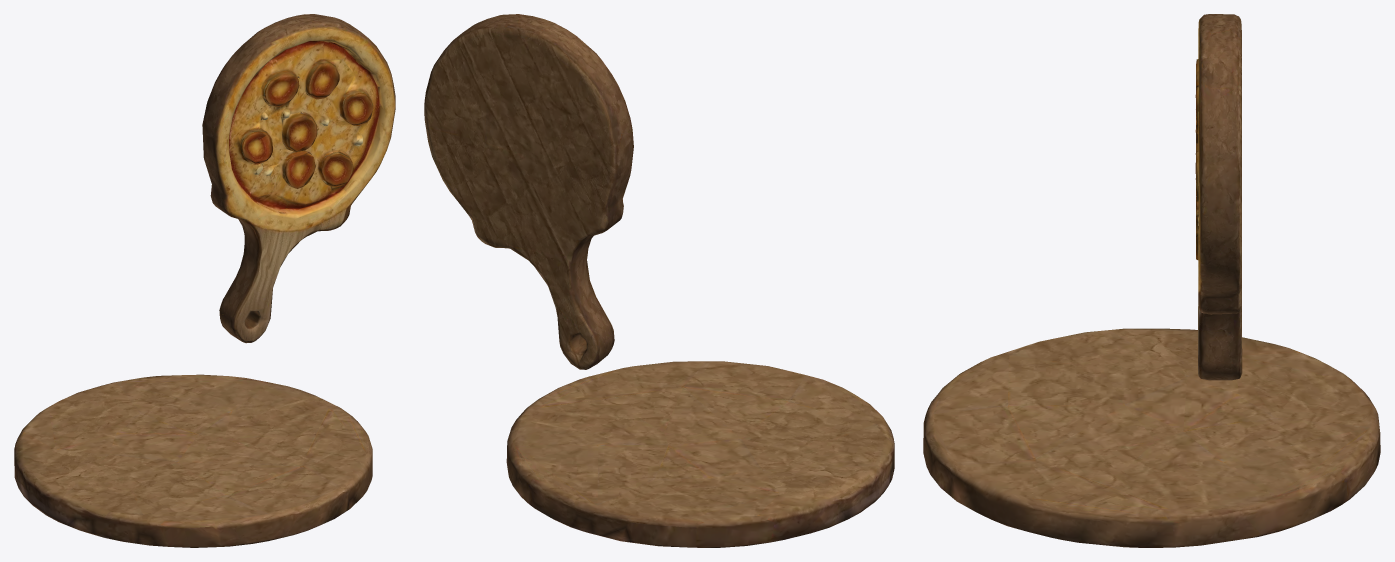
File: token-pizza.glb
3 views of the same model, side by side, from view 1: azimuth 30°, elevation 25°; view 2: azimuth 150°, elevation 25°; view 3: azimuth 270°, elevation 25° (orthographic). The views are drawn at different scales.
Bounding box in the file's own units: 1.78 × 1.8 × 1.46.
1 material, 1 textured.
